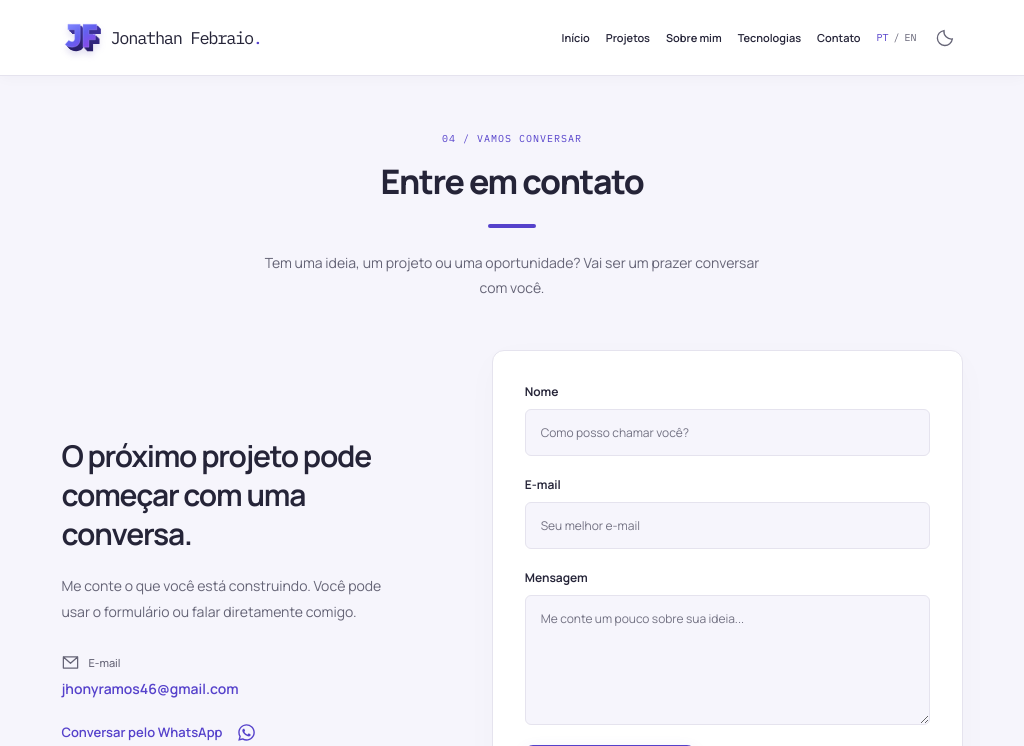
Test: Portfolio visitor journeys › reports a rejected contact request and preserves the visitor's message
(page scrolled)
Type "Teste local" into the field labelled "Nome" at (727, 432), box [525,409,930,456]
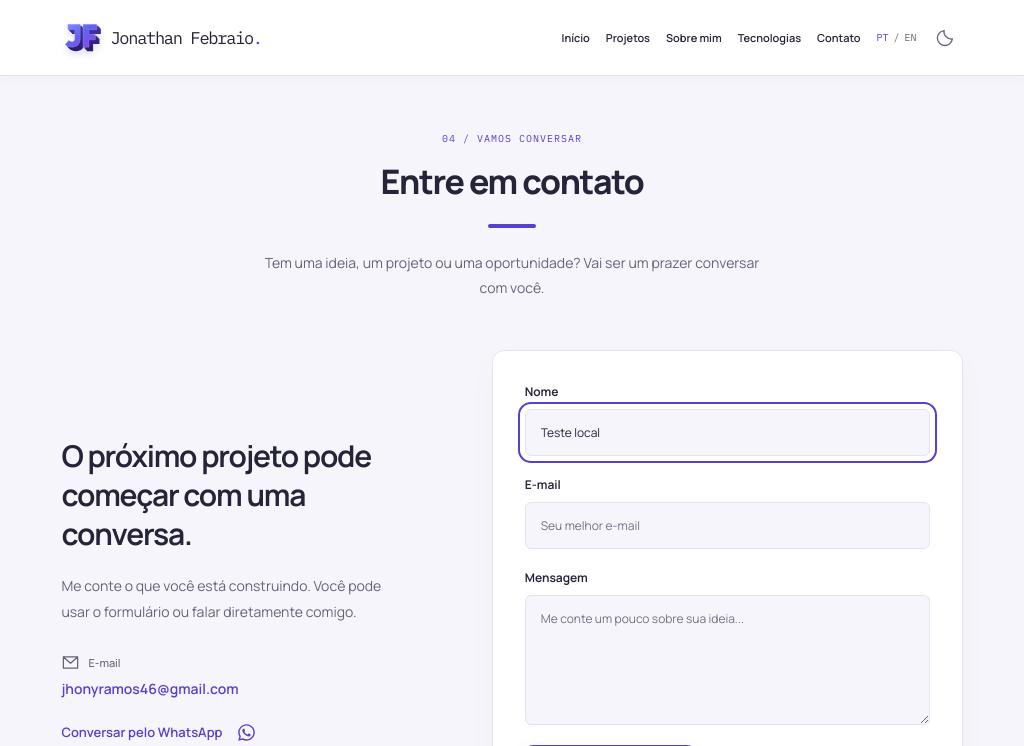
Type "test@example.com" into the field labelled "E-mail" at (727, 526), box [525,502,930,549]
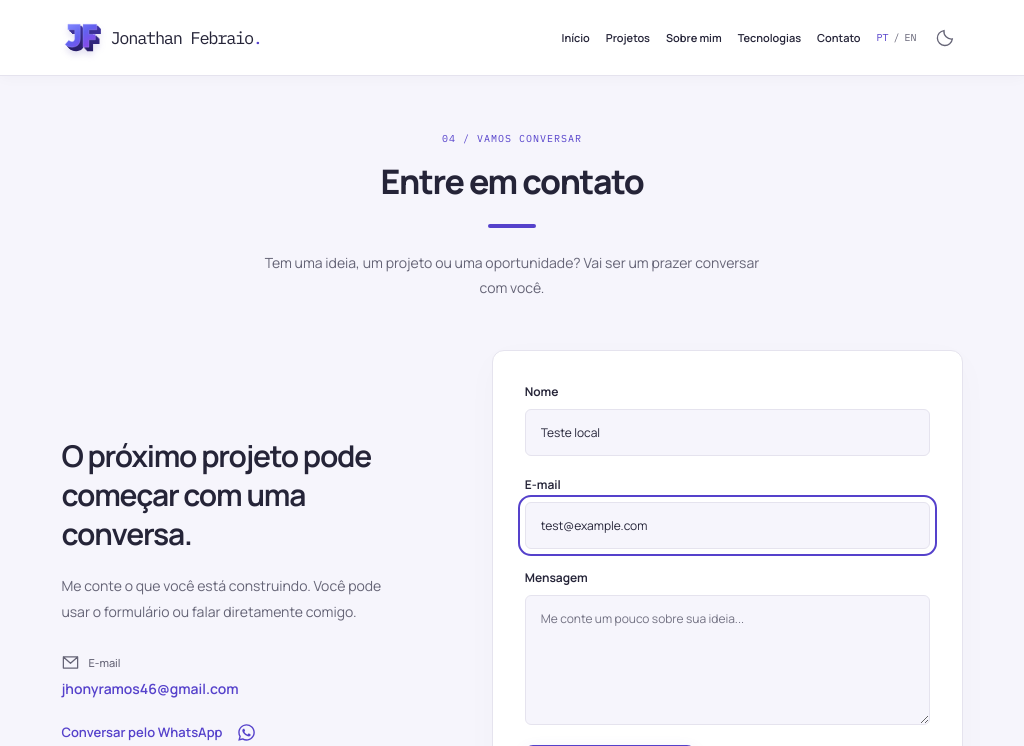
Type "Mensagem de teste local." into the text box labelled "Mensagem" at (727, 660), box [525,595,930,725]
(page scrolled)
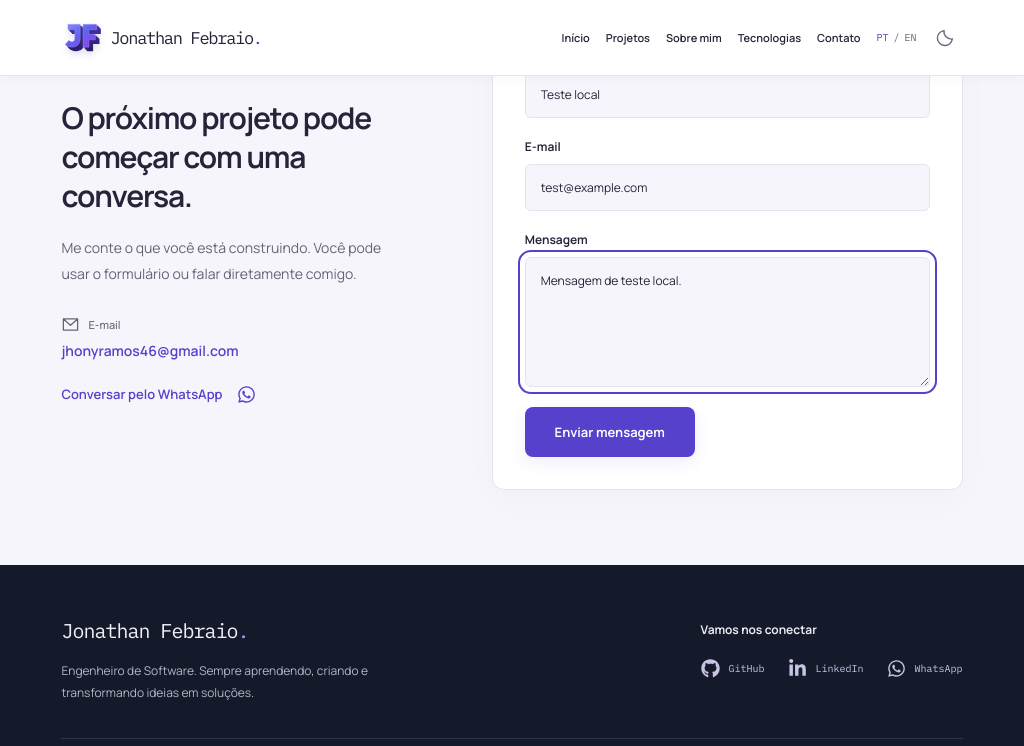
Click the button "Enviar mensagem" at (610, 432), box [525,407,695,457]
(page scrolled)
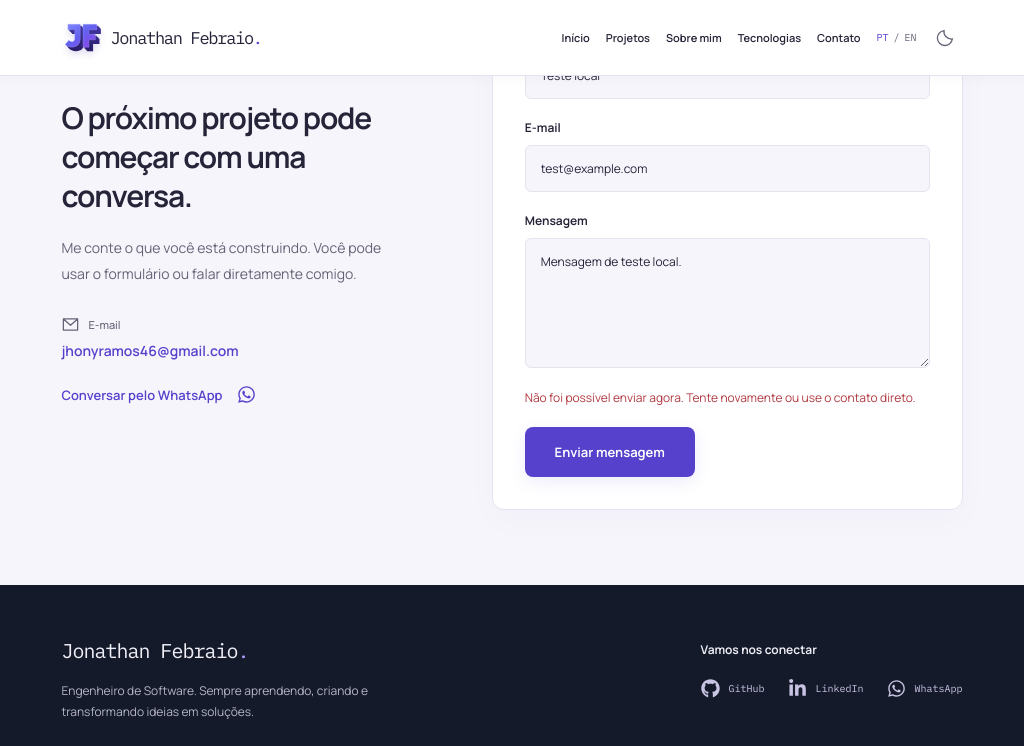
Expected: the button "Enviar mensagem" is enabled, [525,427,695,477]
Now the message shows "Não foi possível enviar", box [525,389,916,406]
